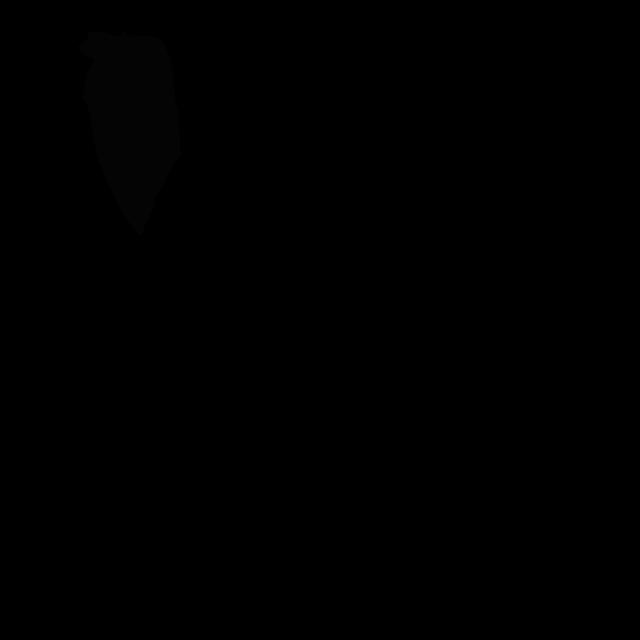soft_plastic: (78, 31, 181, 236)
